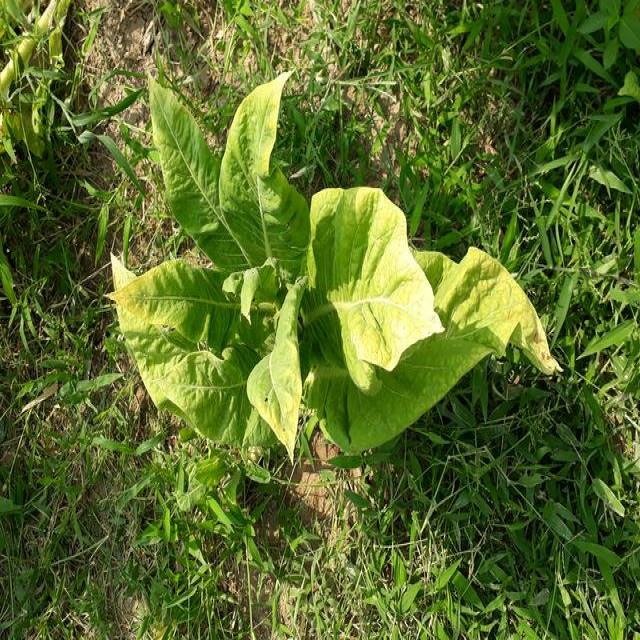crop: (112, 72, 563, 461)
